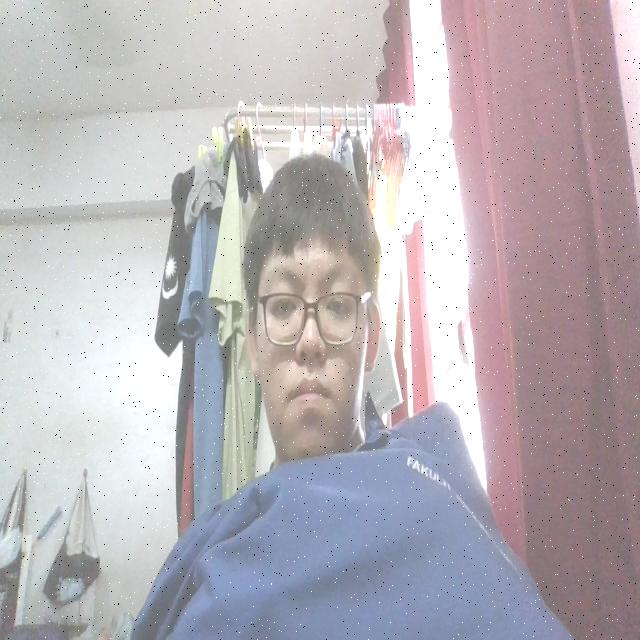person_without_labcoat: (132, 154, 571, 639)
